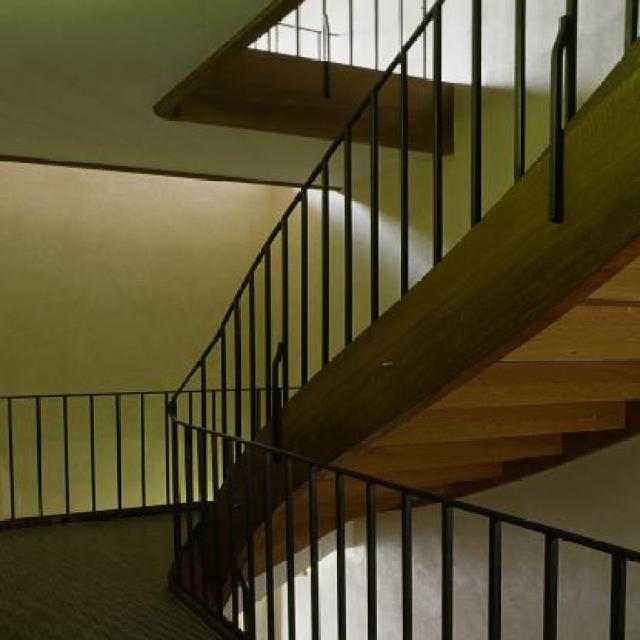stair: (117, 3, 638, 639)
